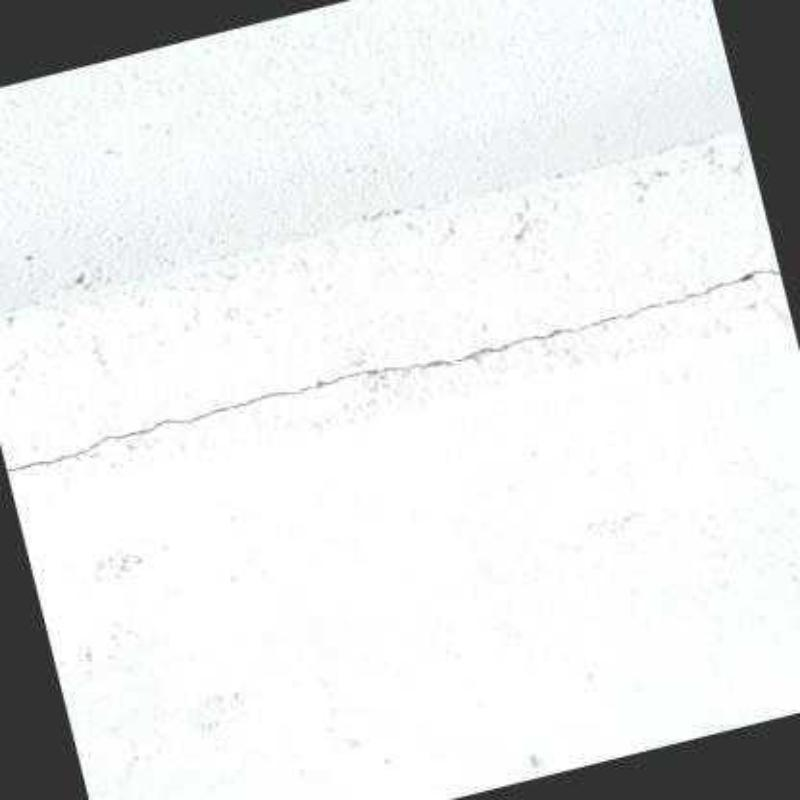pothole: (3, 259, 782, 476)
